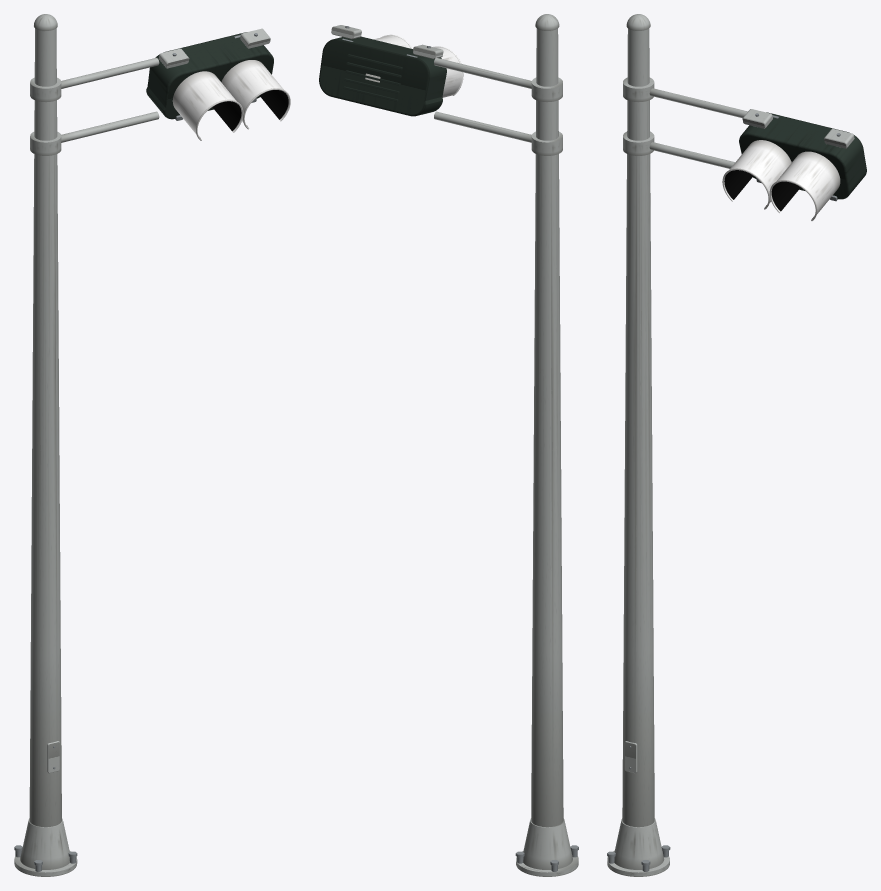
The picture shows the model from 3 angles, left to right: view 1: azimuth 30°, elevation 25°; view 2: azimuth 150°, elevation 25°; view 3: azimuth 330°, elevation 25°; orthographic projection.
Visible parts, largest first — view 1: jp-veh-flash; view 2: jp-veh-flash; view 3: jp-veh-flash.
Boxes of the visible parts, box(x1,y1,x2,y2) form: jp-veh-flash: box(14, 14, 290, 876); jp-veh-flash: box(319, 14, 578, 876); jp-veh-flash: box(607, 14, 866, 876).
Size of the model in its own units: 1.71 by 5.67 by 0.6375.
13 materials, 3 textured.
